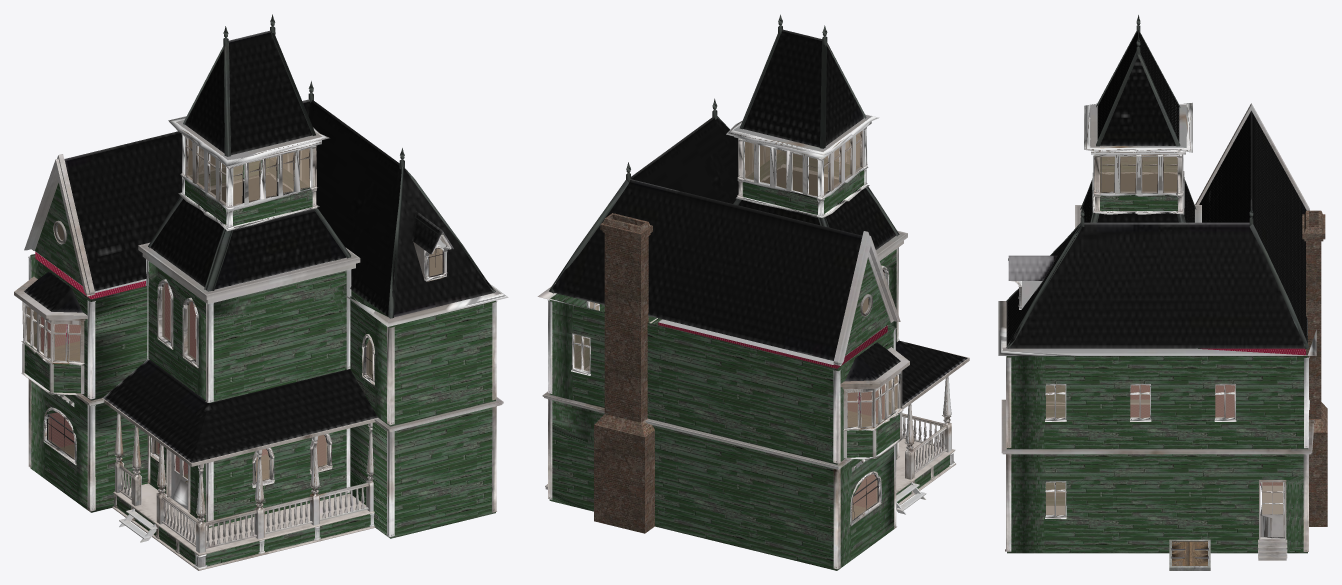
The model's file is victorian-green-y270.far.glb.
3 views of the same model, side by side, from view 1: azimuth 30°, elevation 25°; view 2: azimuth 150°, elevation 25°; view 3: azimuth 270°, elevation 25° (orthographic). The views are drawn at different scales.
Visible parts, largest first — view 1: g (×45); view 2: g (×29); view 3: g (×29).
Boxes of the visible parts, <box> form: g (×45): <box>14,30,508,570</box>; g (×29): <box>542,29,967,570</box>; g (×29): <box>998,30,1327,570</box>.
Bounding box in the file's own units: 11.06 × 13.77 × 9.12.
22 materials, 19 textured.
